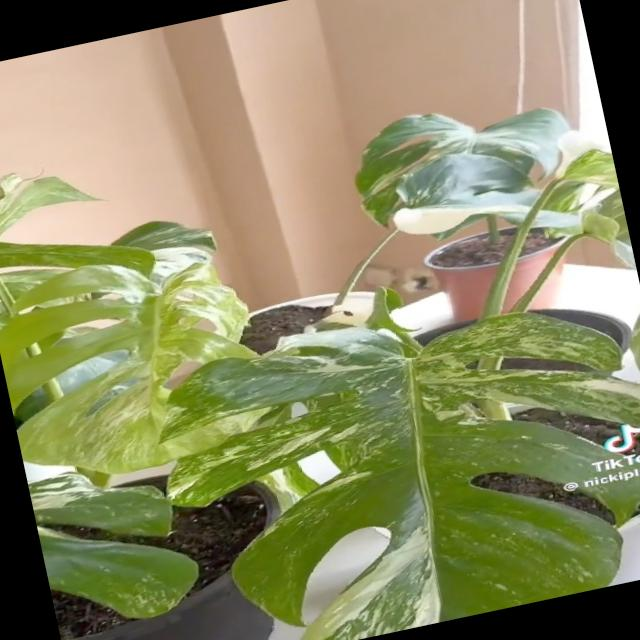lisc_variegata: (157, 284, 640, 640), (352, 106, 579, 233), (27, 470, 199, 618)
roslina_variegata: (0, 106, 640, 640)
